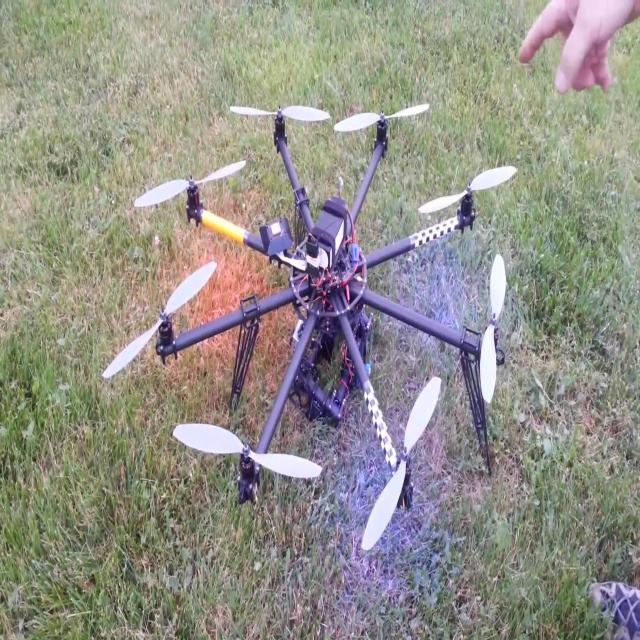drone: (115, 45, 519, 549)
